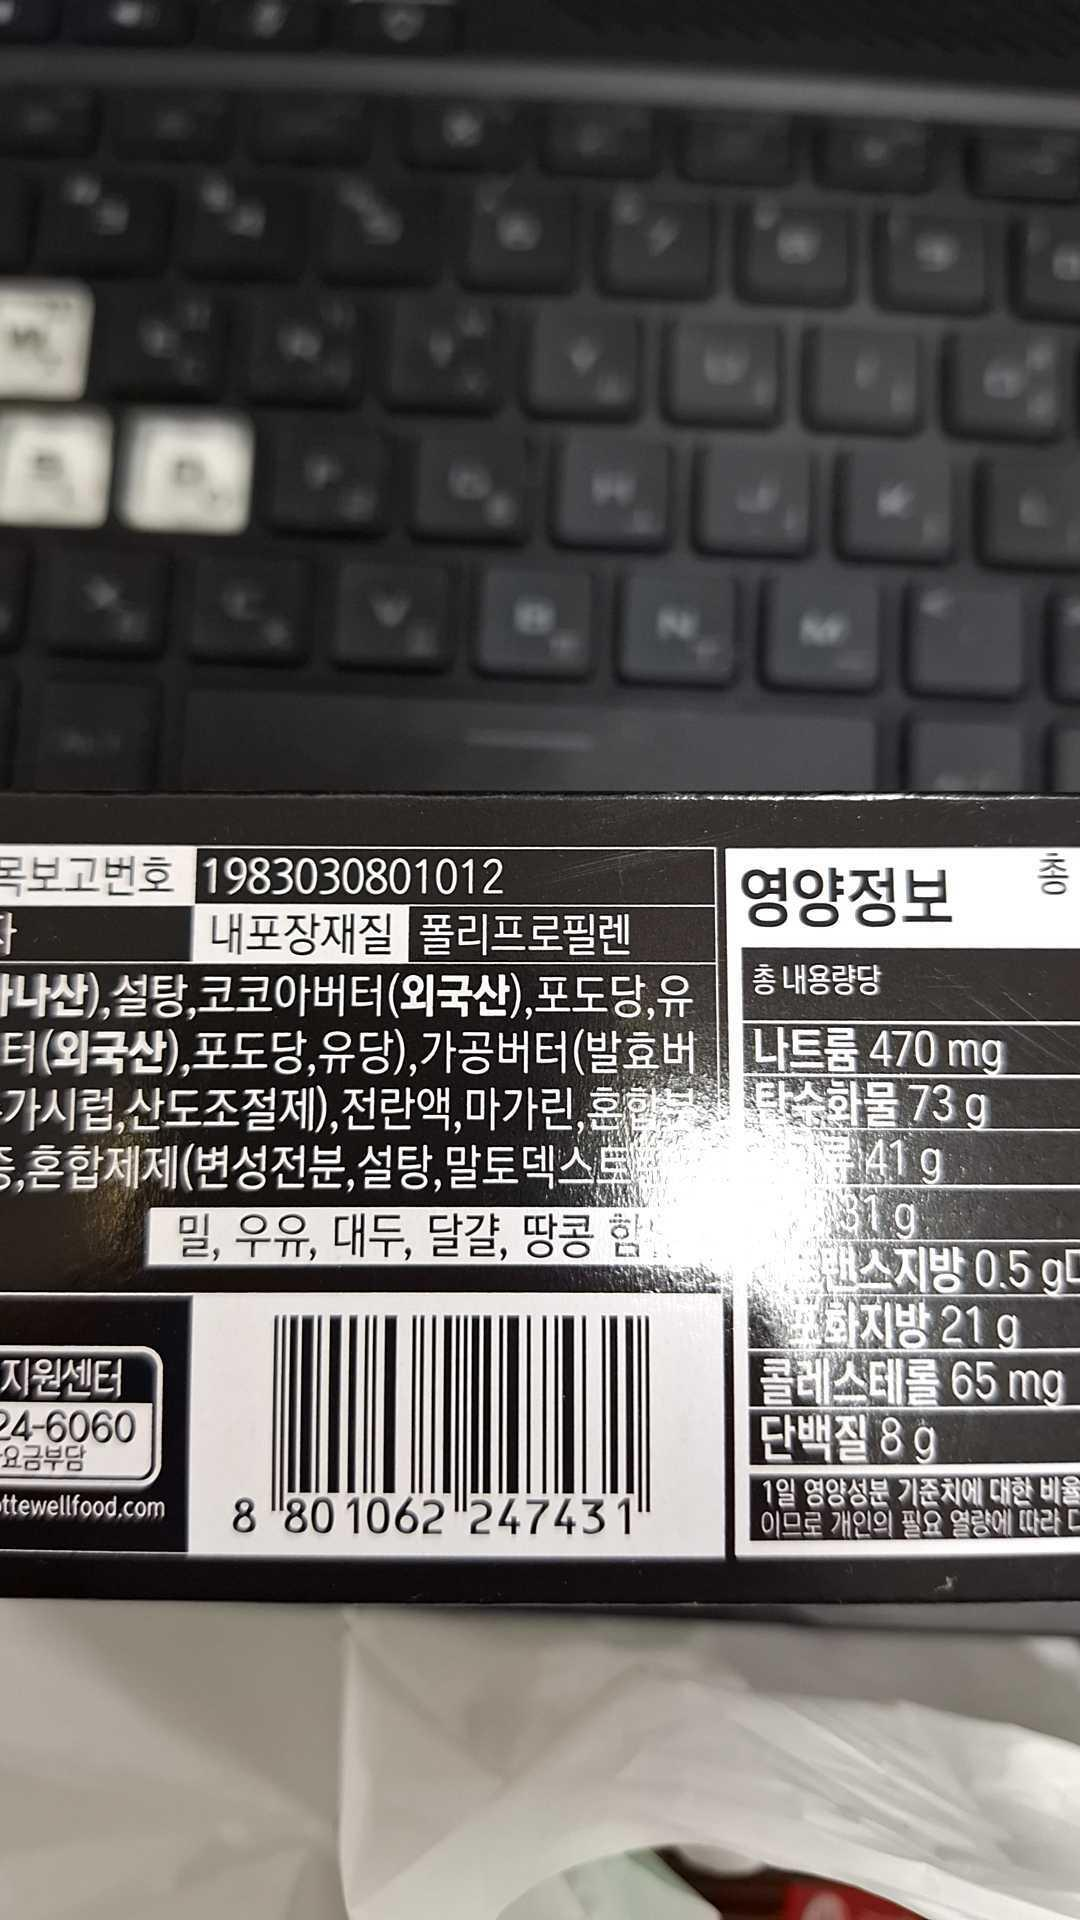chickchok-3400-2025-9-10: (208, 1302, 715, 1548)
